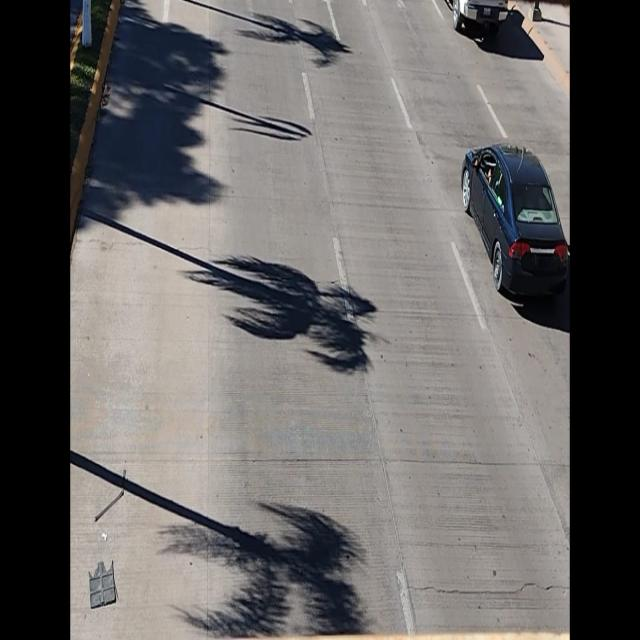Auto: (458, 132, 570, 326)
